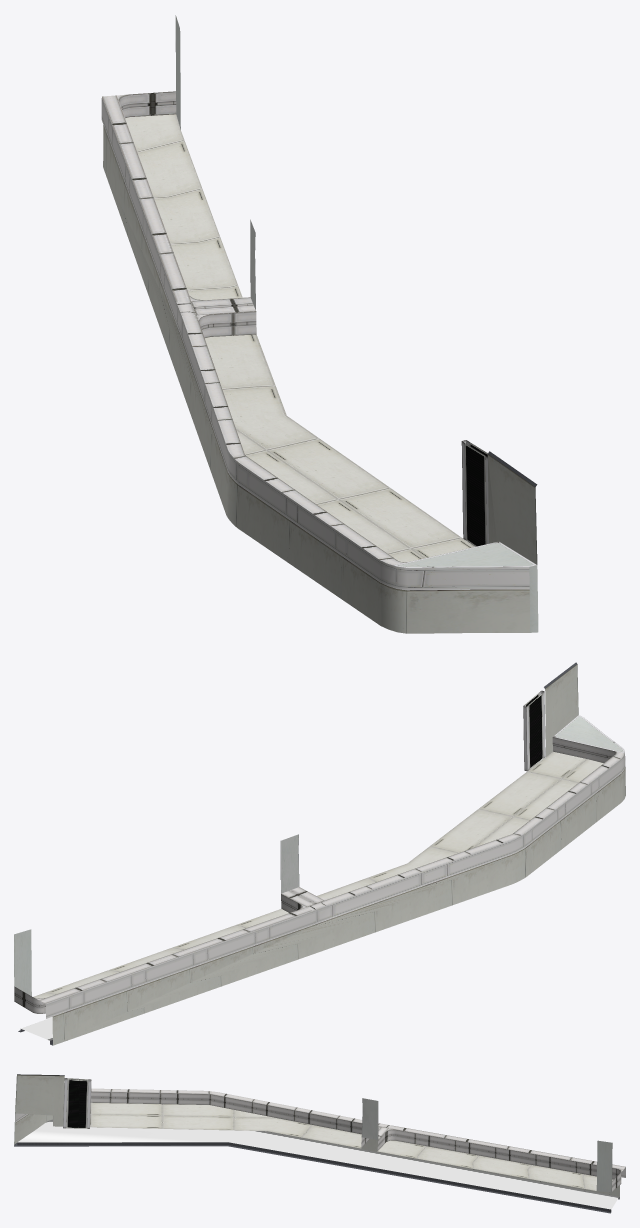
Rendered from STA20_officeextB01.FBX.
The picture shows the model from 3 angles, top to bottom: view 1: azimuth 30°, elevation 25°; view 2: azimuth 150°, elevation 25°; view 3: azimuth 270°, elevation 25°; orthographic projection. The views are drawn at different scales.
Parts seen in each view (by area): view 1: STA20_officeextB01; view 2: STA20_officeextB01; view 3: STA20_officeextB01.
Part boxes in pixels (x1=…): STA20_officeextB01: x1=101, y1=15, x2=538, y2=633; STA20_officeextB01: x1=14, y1=662, x2=625, y2=1045; STA20_officeextB01: x1=14, y1=1074, x2=625, y2=1213.
Bounding box in the file's own units: 16.79 × 7.67 × 51.23.
